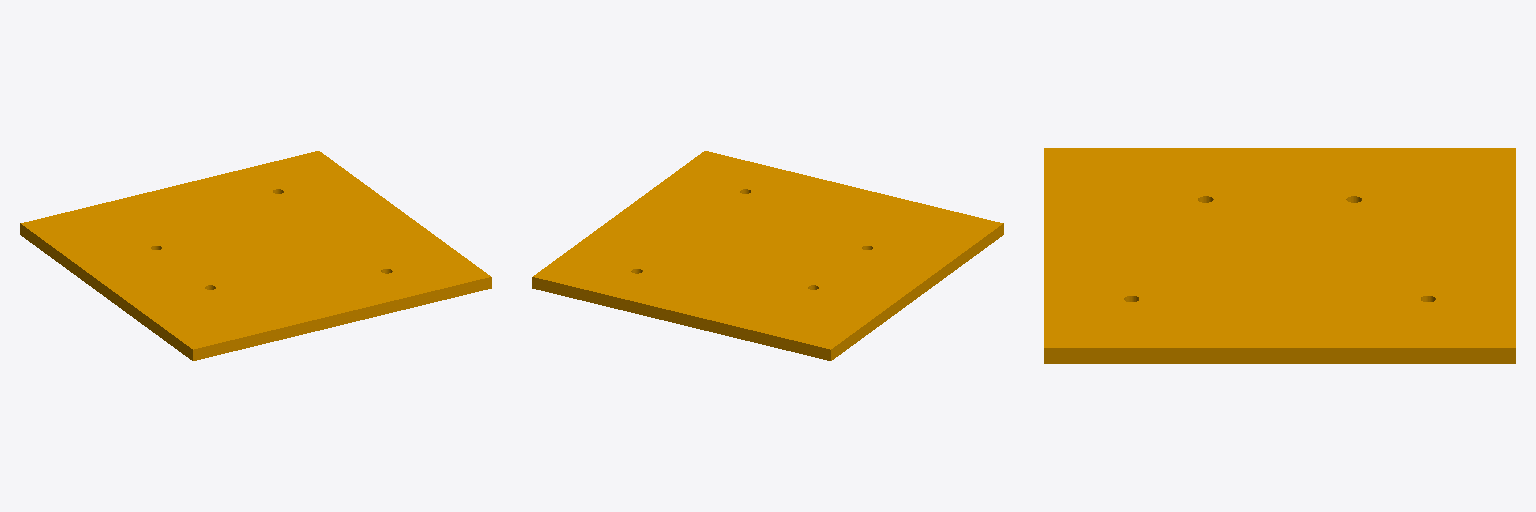
robot.urdf — round_belt_task_scene:
<?xml version="1.0" encoding="utf-8"?>

<robot name="round_belt_task_scene">
    <link name="round_belt_task_scene">
        <visual>
            <origin rpy="-1.57079 0 1.57079" xyz="0.23008 0 -0.02858"/>
            <geometry>
                <mesh filename="table/table.gltf" scale="0.001 0.001 0.001"/>
            </geometry>
        </visual>
        <visual>
            <origin rpy="-1.57079 0 1.57079" xyz="-0.07669 0 -0.00953"/>
            <geometry>
                <mesh filename="franka_mount/wooden_plate.gltf" scale="0.001 0.001 0.001"/>
            </geometry>
        </visual>
        <visual>
            <origin rpy="0 0 -1.57079" xyz="0 0 0"/>
            <geometry>
                <mesh filename="franka_mount/base_plate.obj"/>
            </geometry>
        </visual>
    </link>
</robot>

--- Render facts (derived) ---
3 views of the same robot in one strip: view 1: azimuth 30°, elevation 25°; view 2: azimuth 150°, elevation 25°; view 3: azimuth 270°, elevation 25° (orthographic).
Robot: round_belt_task_scene — 1 links, 0 joints (none); root link round_belt_task_scene; default pose: every joint at zero.
Links seen in each view (by area): view 1: round_belt_task_scene; view 2: round_belt_task_scene; view 3: round_belt_task_scene.
Boxes of the visible links, bbox=[...] form: round_belt_task_scene: bbox=[20, 151, 491, 360]; round_belt_task_scene: bbox=[532, 151, 1003, 360]; round_belt_task_scene: bbox=[1044, 148, 1515, 363].
Size in the robot's own frame: 0.254 by 0.254 by 0.0095 metres.
1 mesh visuals loaded from 3 distinct referenced files (1 OBJ); not drawn: 2 (file found but could not be loaded).